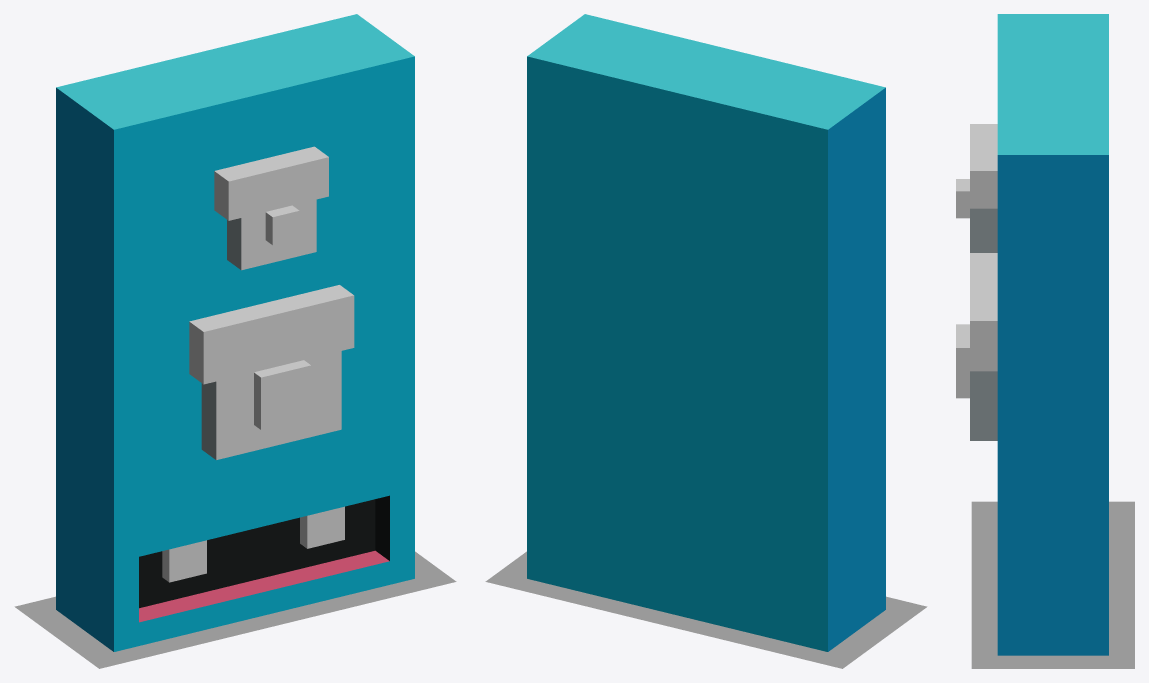
Rendered from EN_TallBit_Cyan.fbx.
The picture shows the model from 3 angles, left to right: view 1: azimuth 30°, elevation 25°; view 2: azimuth 150°, elevation 25°; view 3: azimuth 270°, elevation 25°; orthographic projection. The views are drawn at different scales.
Visible parts, largest first — view 1: Body, Eyebrow, Mouth, Eye, Shadow, Eyebrow_SM, Eye_SM, Pupil, Pupil_SM; view 2: Body, Shadow; view 3: Body, Shadow, Eyebrow, Eyebrow_SM, Eye, Eye_SM, Pupil, Pupil_SM.
Boxes of the visible parts, x1,y1,x2,y2 form: Body: (56, 14, 414, 651); Eyebrow: (189, 285, 354, 384); Mouth: (139, 550, 389, 645); Eye: (201, 351, 341, 460); Shadow: (14, 551, 456, 668); Eyebrow_SM: (214, 146, 328, 220); Eye_SM: (227, 199, 316, 270); Pupil: (254, 360, 311, 429); Pupil_SM: (265, 205, 299, 245); Body: (527, 14, 885, 651); Shadow: (485, 551, 927, 668); Body: (997, 14, 1108, 655); Shadow: (971, 501, 1134, 668); Eyebrow: (970, 253, 997, 371); Eyebrow_SM: (970, 124, 997, 208); Eye: (970, 371, 997, 440); Eye_SM: (970, 208, 997, 252); Pupil: (956, 324, 969, 398); Pupil_SM: (956, 179, 969, 218).
Bounding box in the file's own units: 71.23 × 100 × 32.18.
